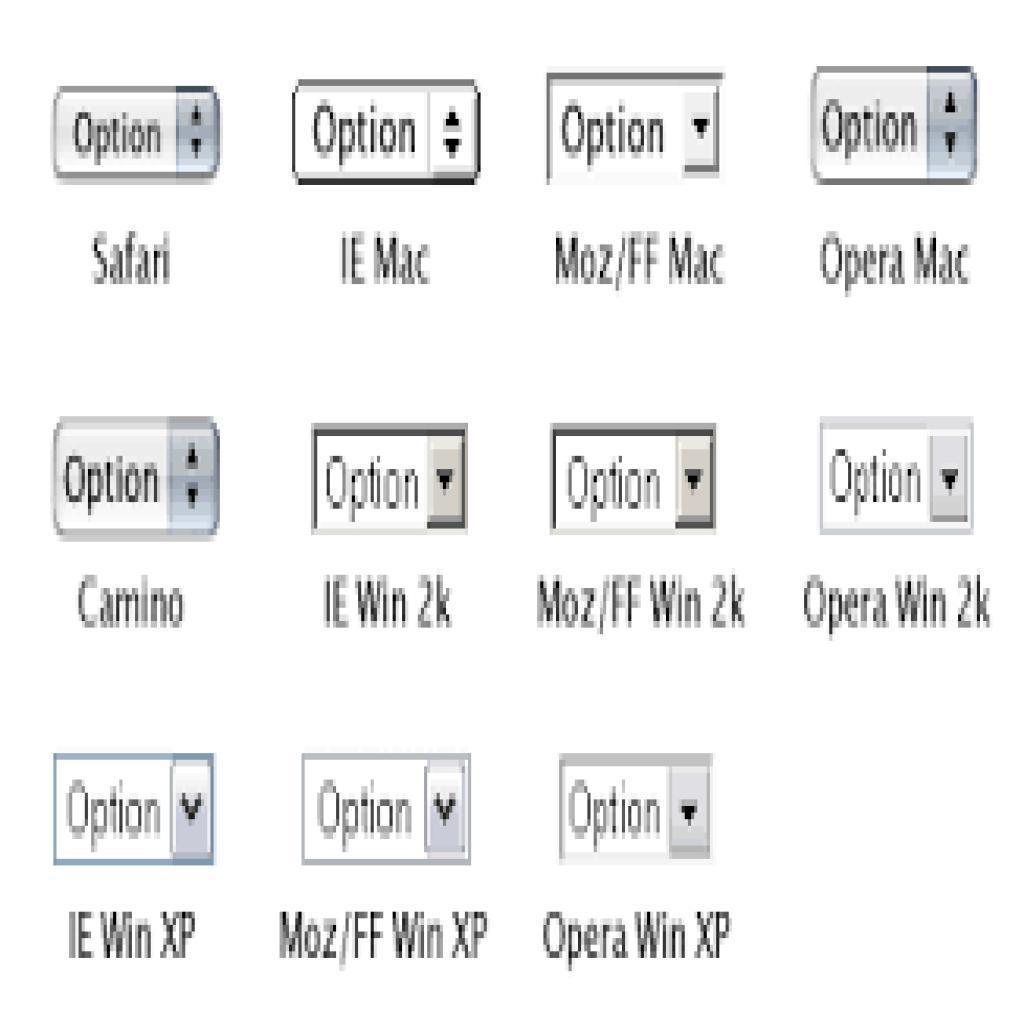dropdown: (51, 414, 220, 542), (292, 78, 481, 185), (548, 72, 721, 184), (301, 754, 471, 866), (814, 68, 975, 184), (53, 753, 214, 867), (553, 425, 720, 532), (312, 423, 466, 534), (560, 754, 713, 863), (822, 424, 976, 532), (55, 87, 219, 178)
